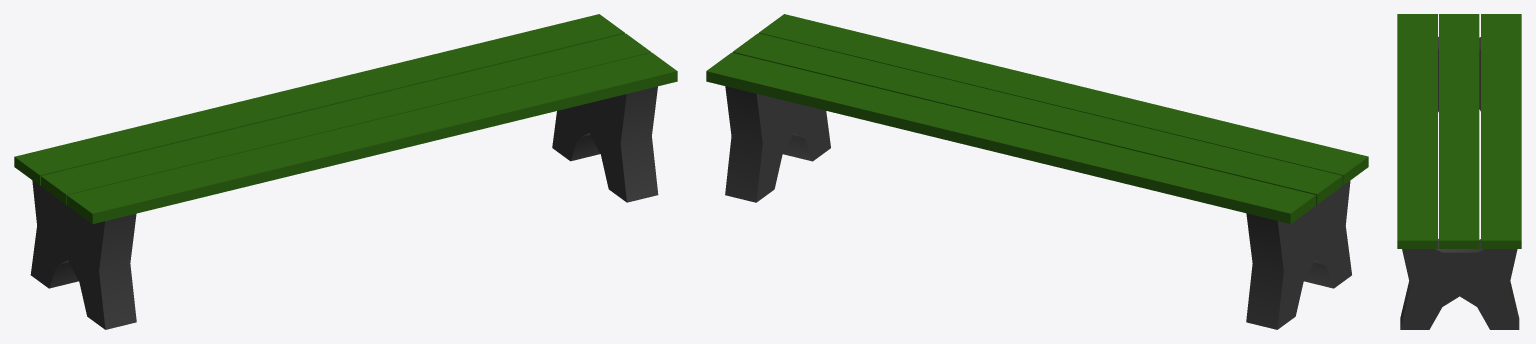
The model's file is Bench.FBX.
3 renders of one model, left to right at view 1: azimuth 30°, elevation 25°; view 2: azimuth 150°, elevation 25°; view 3: azimuth 270°, elevation 25°, orthographic. The views are drawn at different scales.
Parts seen in each view (by area): view 1: Box015; view 2: Box015; view 3: Box015.
Part boxes in pixels (x1=…): Box015: x1=14, y1=14, x2=677, y2=329; Box015: x1=706, y1=14, x2=1368, y2=329; Box015: x1=1397, y1=14, x2=1521, y2=329.
Bounding box in the file's own units: 2.39 × 0.4715 × 0.5519.
